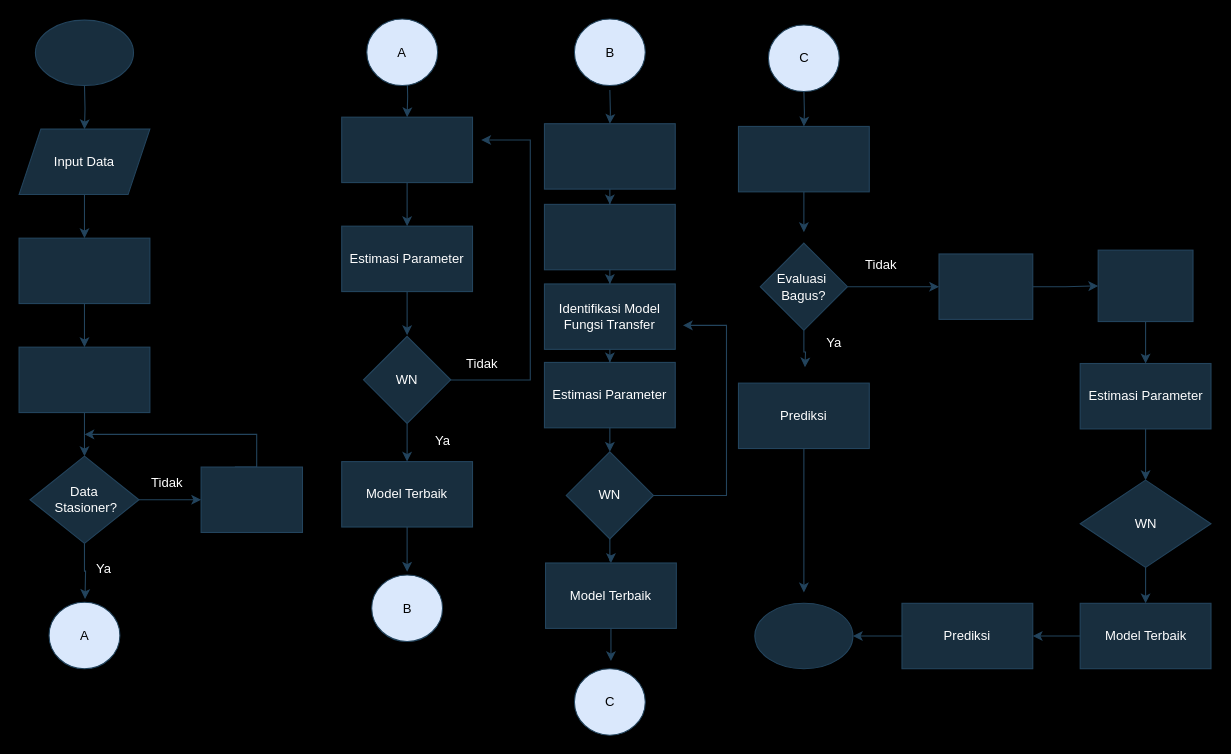
Image size: 1231x754. Some labels were removed from this diagram. Here are the shapes that lost their labels. From the top down, the centre of each, then its label:
At (x=84, y=52): "Start".
At (x=407, y=149): "Identifikasi Model Input".
At (x=609, y=156): "Prewhitening".
At (x=803, y=158): "Training Model".
At (x=609, y=236): "Penentuan orde Fungsi transfer".
At (x=84, y=270): "Transformasi Log".
At (x=985, y=286): "Tambahkan Interfensi".
At (x=1145, y=285): "Identifikasi Model TF + I".
At (x=84, y=379): "Split Data".
At (x=251, y=499): "Diferensi".
At (x=803, y=635): "End".
